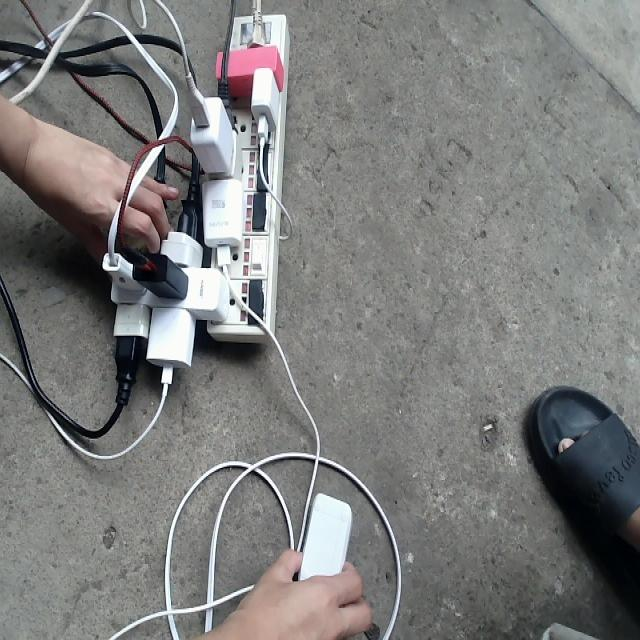-: (99, 8, 289, 407)
